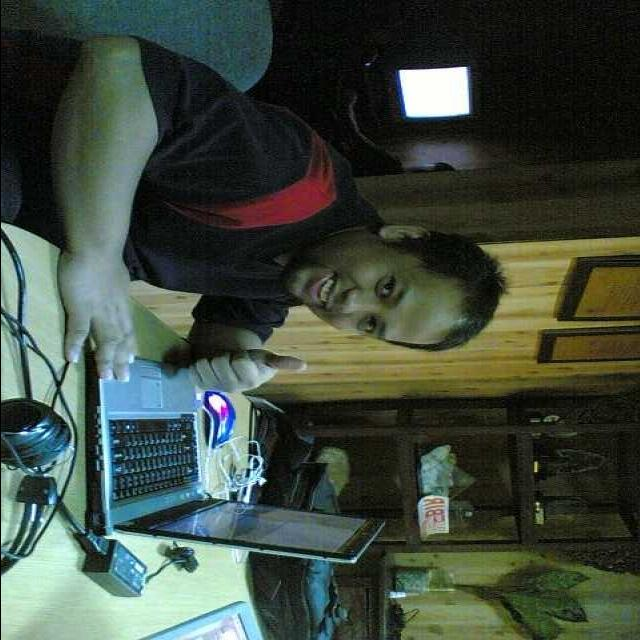laptop: (73, 344, 380, 596)
